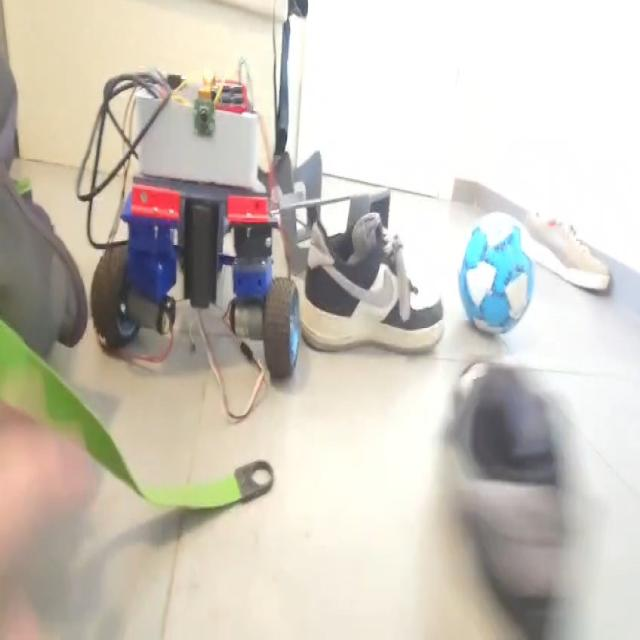Robot: (90, 68, 300, 378)
